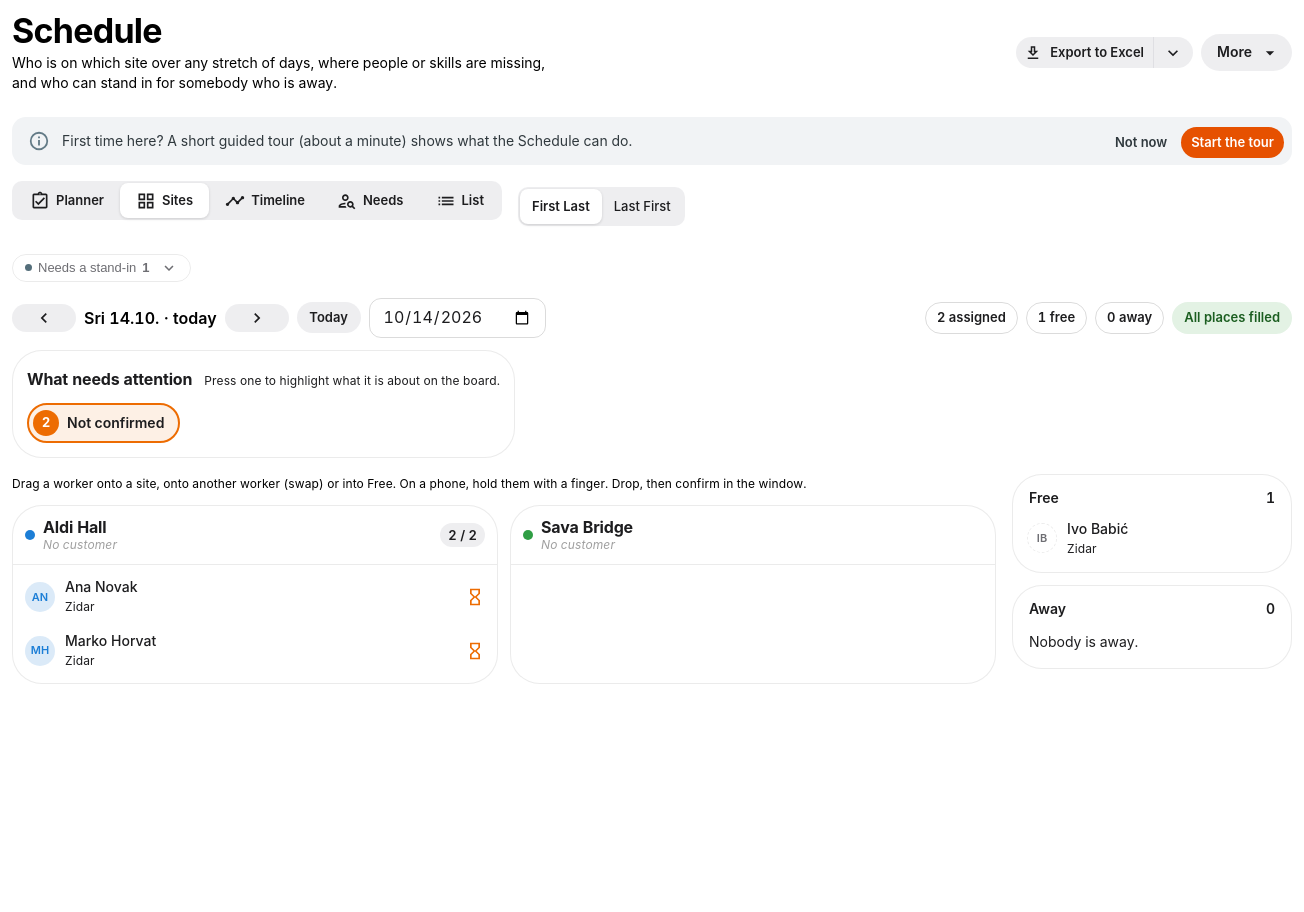
Test: Planner tab › opens on the by-site board as before, and lists what needs a decision when the Planner is chosen
Expected: the button with aria-label "By site" is shown, [120,183,209,218]
Click the button "Planner" at (67,201), box [14,183,120,218]
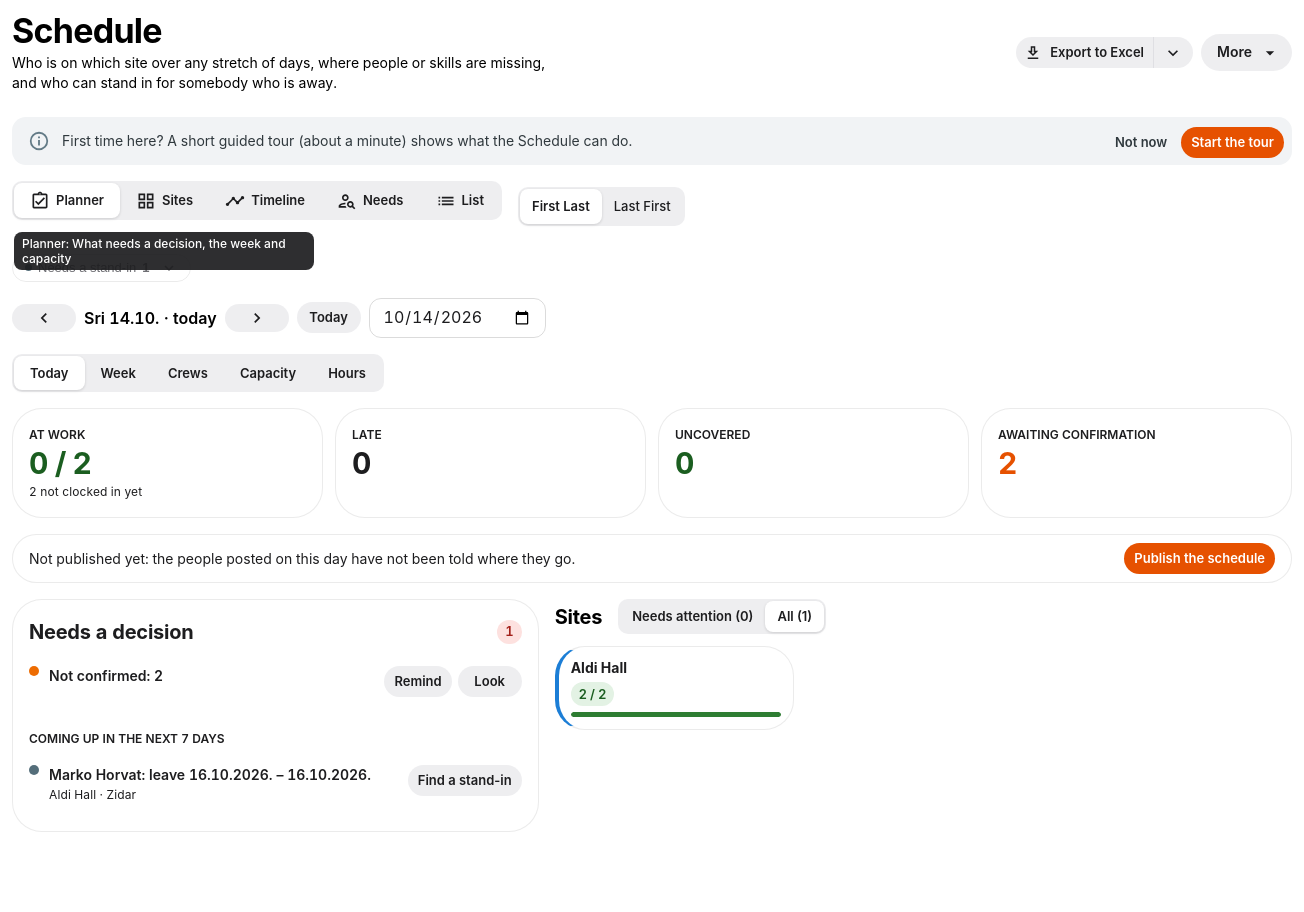
Expected: the heading "Needs a decision" is shown, [29,616,194,648]
Expected: the text "Marko Horvat: leave 16.10.2026. – 16.10.2026." is shown, [49,765,398,785]
Expected: the button "Find a stand-in" is shown, [408,765,522,796]
